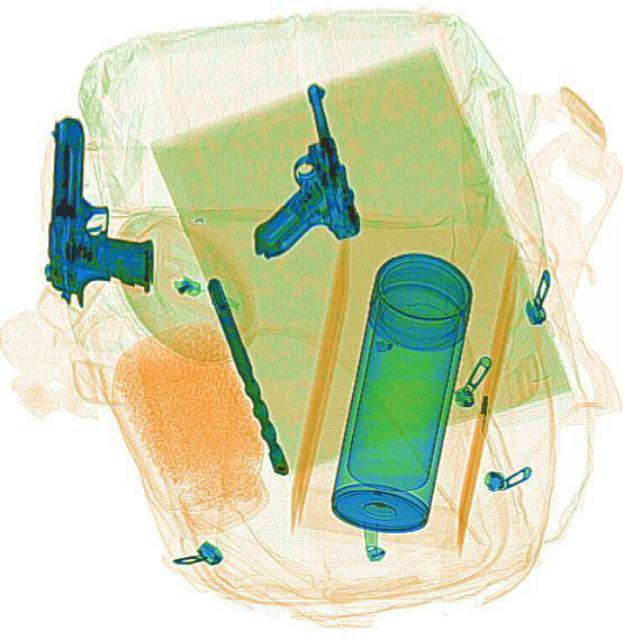Gun: (214, 78, 365, 262), (45, 114, 155, 306)
